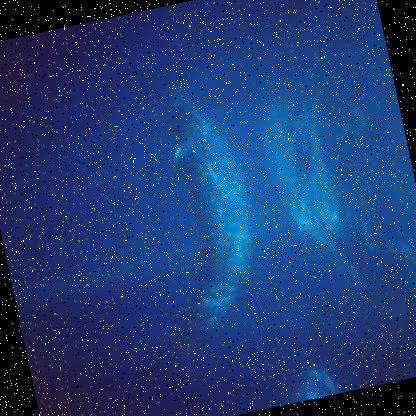blue_whale: (109, 64, 285, 340)
